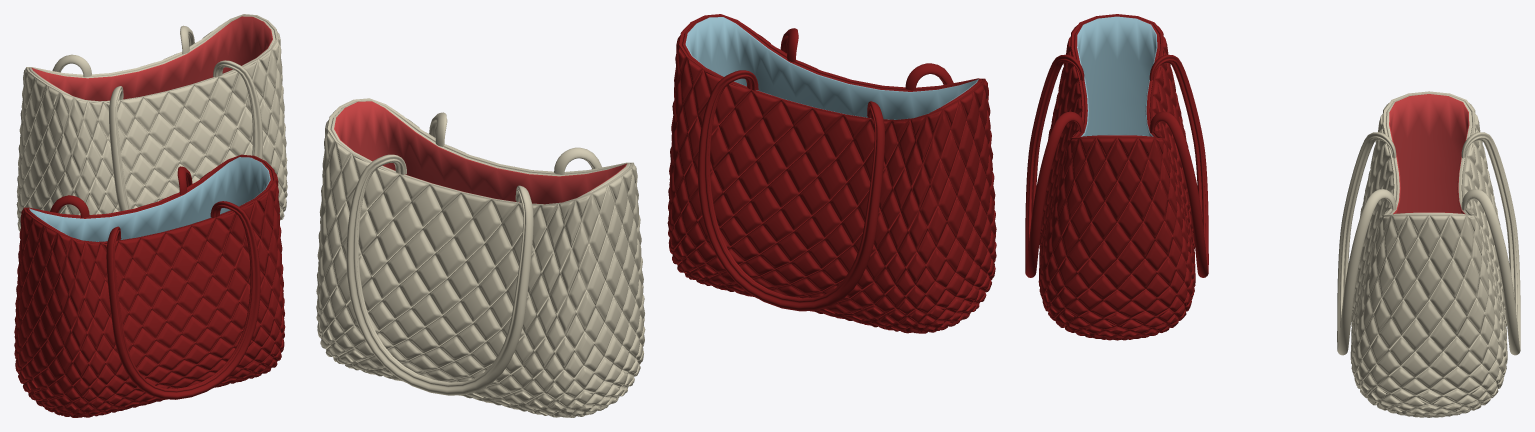
Rendered from handbag-4.glb.
The picture shows the model from 3 angles, left to right: view 1: azimuth 30°, elevation 25°; view 2: azimuth 150°, elevation 25°; view 3: azimuth 270°, elevation 25°; orthographic projection. The views are drawn at different scales.
Visible parts, largest first — view 1: ladies quilted bag red_ladies quilted bag red 01_0, ladies quilted bag001_ladies quilted bag white 01_0, ladies quilted bag001_ladies quilted bag white 02_0, ladies quilted bag red_ladies quilted bag red 02_0; view 2: ladies quilted bag001_ladies quilted bag white 01_0, ladies quilted bag red_ladies quilted bag red 01_0, ladies quilted bag red_ladies quilted bag red 02_0, ladies quilted bag001_ladies quilted bag white 02_0; view 3: ladies quilted bag001_ladies quilted bag white 01_0, ladies quilted bag red_ladies quilted bag red 01_0, ladies quilted bag red_ladies quilted bag red 02_0, ladies quilted bag001_ladies quilted bag white 02_0.
Boxes of the visible parts, x1=… form: ladies quilted bag red_ladies quilted bag red 01_0: x1=14, y1=154, x2=285, y2=417; ladies quilted bag001_ladies quilted bag white 01_0: x1=16, y1=14, x2=287, y2=231; ladies quilted bag001_ladies quilted bag white 02_0: x1=31, y1=16, x2=272, y2=101; ladies quilted bag red_ladies quilted bag red 02_0: x1=29, y1=157, x2=270, y2=241; ladies quilted bag001_ladies quilted bag white 01_0: x1=316, y1=98, x2=645, y2=417; ladies quilted bag red_ladies quilted bag red 01_0: x1=667, y1=14, x2=996, y2=333; ladies quilted bag red_ladies quilted bag red 02_0: x1=685, y1=17, x2=978, y2=119; ladies quilted bag001_ladies quilted bag white 02_0: x1=334, y1=101, x2=626, y2=204; ladies quilted bag001_ladies quilted bag white 01_0: x1=1337, y1=91, x2=1520, y2=417; ladies quilted bag red_ladies quilted bag red 01_0: x1=1025, y1=14, x2=1208, y2=340; ladies quilted bag red_ladies quilted bag red 02_0: x1=1077, y1=16, x2=1157, y2=136; ladies quilted bag001_ladies quilted bag white 02_0: x1=1389, y1=94, x2=1469, y2=214.
Bounding box in the file's own units: 0.8263 × 0.4056 × 0.8511.
